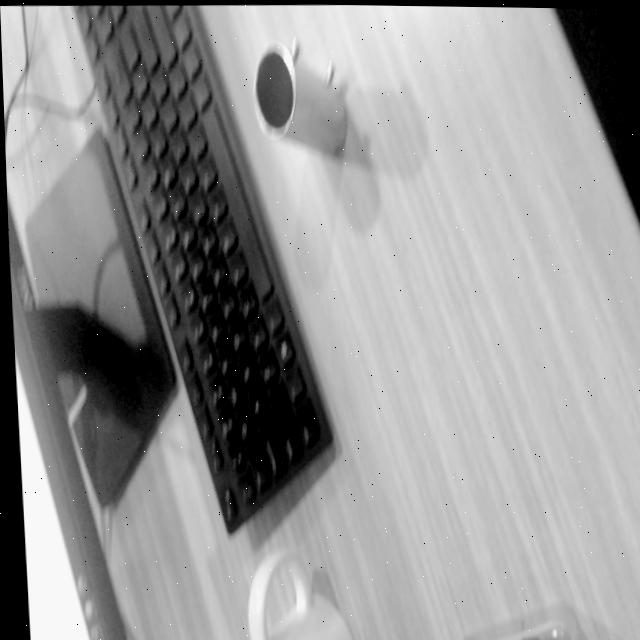Co_Lon: (236, 30, 372, 161)
